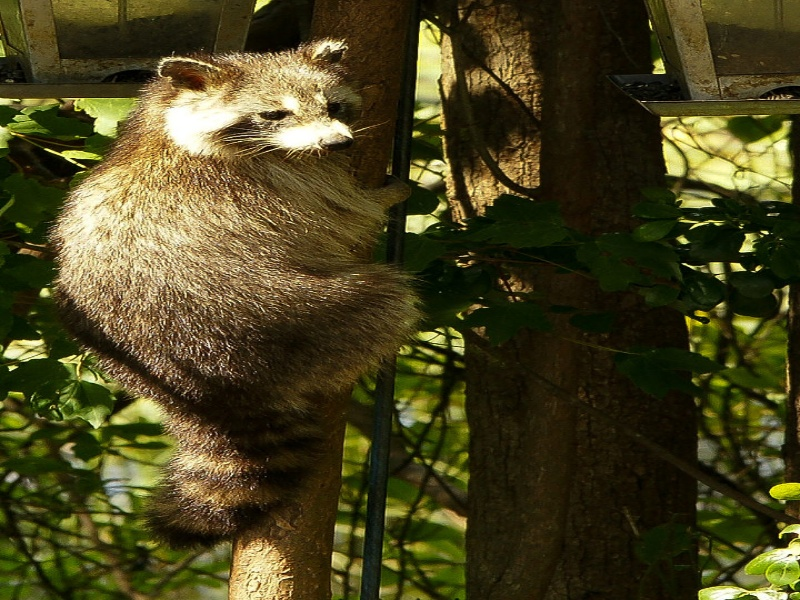raccoon: (28, 43, 424, 541)
